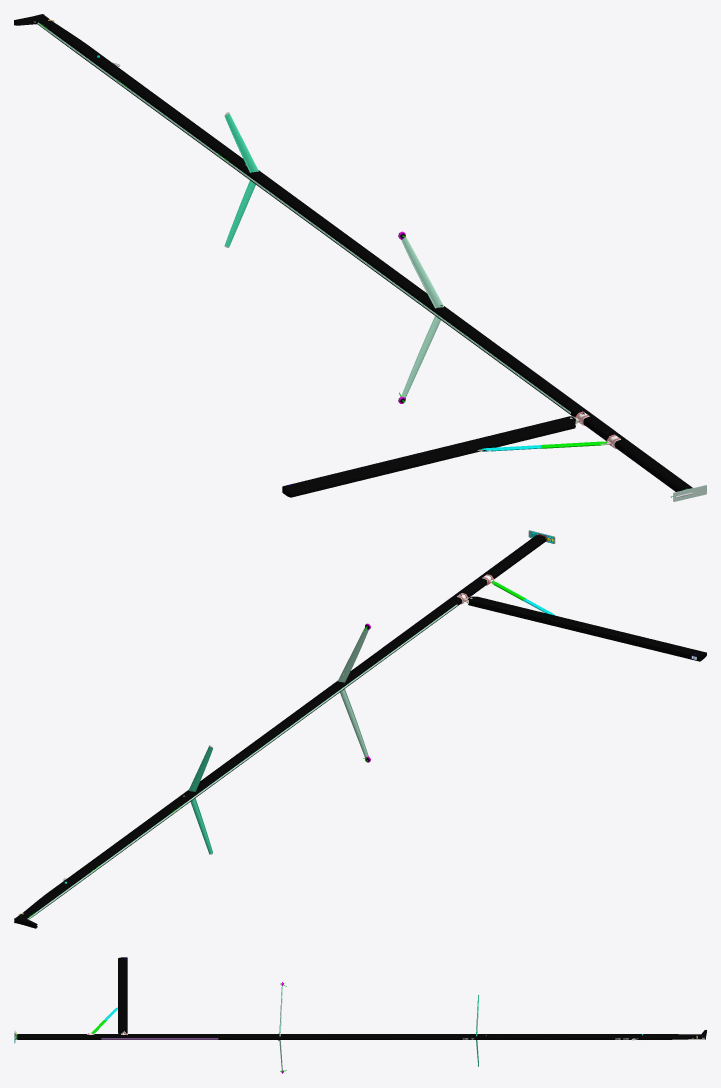
3 views of the same model, one above another, from view 1: azimuth 30°, elevation 25°; view 2: azimuth 150°, elevation 25°; view 3: azimuth 270°, elevation 25° (orthographic). The views are drawn at different scales.
Visible parts, largest first — view 1: c0_0_0, c127_255_191, c16_253_135; view 2: c0_0_0, c127_255_191, c16_253_135; view 3: c0_0_0, c158_61_207.
Part boxes in pixels (left/top/right/bottom): c0_0_0: left=14, top=14, right=692, bottom=497; c127_255_191: left=37, top=22, right=570, bottom=413; c16_253_135: left=224, top=113, right=258, bottom=246; c0_0_0: left=14, top=535, right=706, bottom=928; c127_255_191: left=27, top=604, right=696, bottom=919; c16_253_135: left=188, top=746, right=212, bottom=853; c0_0_0: left=17, top=957, right=706, bottom=1072; c158_61_207: left=101, top=1038, right=218, bottom=1039.
Size of the model in its own units: 6002 by 3095 by 21308.
